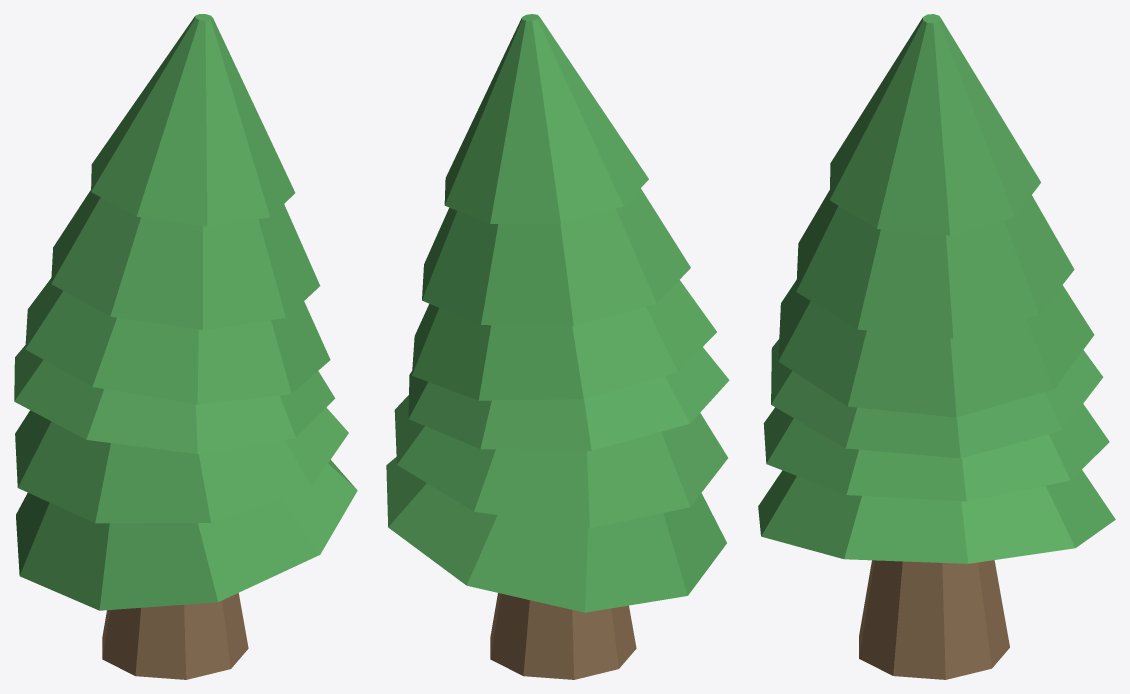
Rendered from pine tree 2.fbx.
3 views of the same model, side by side, from view 1: azimuth 30°, elevation 25°; view 2: azimuth 150°, elevation 25°; view 3: azimuth 270°, elevation 25° (orthographic). The views are drawn at different scales.
Parts seen in each view (by area): view 1: xmas tree 2; view 2: xmas tree 2; view 3: xmas tree 2.
Part boxes in pixels (box(x1,y1,x2,y2)): xmas tree 2: box(14, 14, 357, 679); xmas tree 2: box(386, 14, 729, 679); xmas tree 2: box(758, 14, 1115, 679).
Size of the model in its own units: 1162 by 2301 by 1157.
